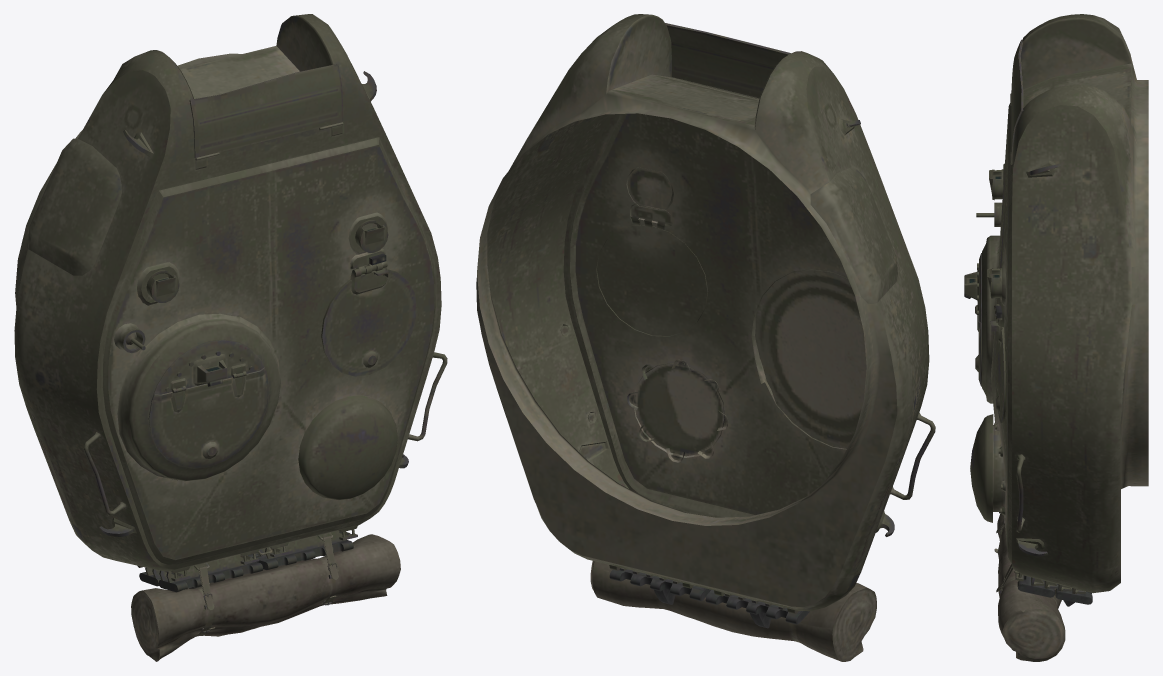
The model's file is Turret_01.glb.
3 renders of one model, left to right at view 1: azimuth 30°, elevation 25°; view 2: azimuth 150°, elevation 25°; view 3: azimuth 270°, elevation 25°, orthographic. The views are drawn at different scales.
Parts seen in each view (by area): view 1: set_0_group_0; view 2: set_0_group_0; view 3: set_0_group_0.
Boxes of the visible parts, x1,y1,x2,y2 form: set_0_group_0: (14,14,447,661); set_0_group_0: (476,14,935,661); set_0_group_0: (964,14,1148,661).
Bounding box in the file's own units: 2.19 × 3.01 × 0.8996.
Materials: 1 (1 with a texture image).
